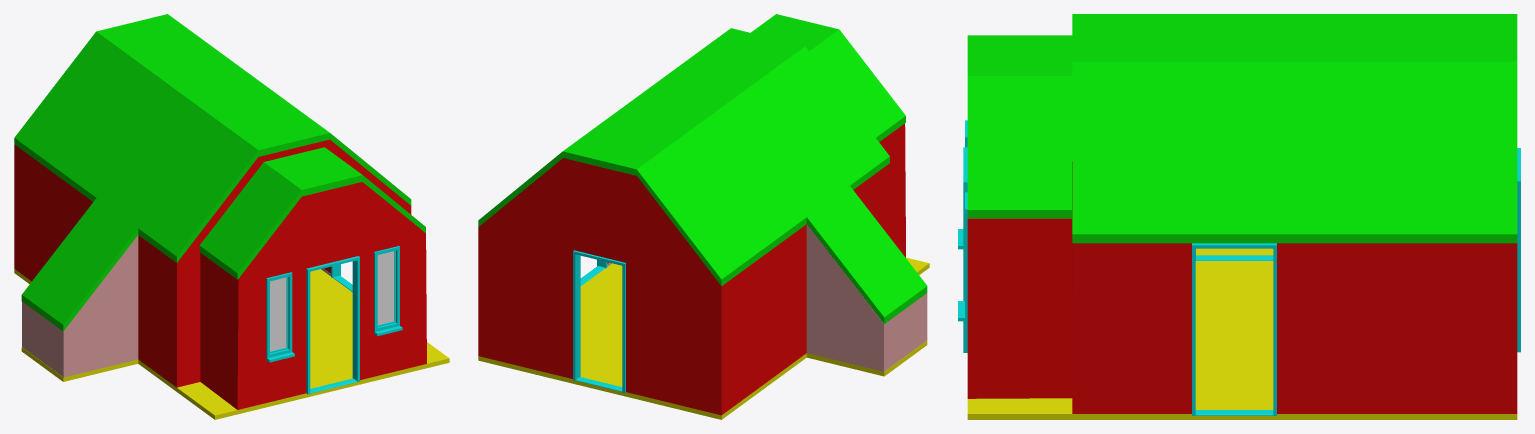
Rendered from FloorPlan508_physics.fbx.
3 renders of one model, left to right at view 1: azimuth 30°, elevation 25°; view 2: azimuth 150°, elevation 25°; view 3: azimuth 270°, elevation 25°, orthographic. The views are drawn at different scales.
Visible parts, largest first — view 1: FP508:Ceiling_1, FP508:Walls_1, FP508:Walls_2, FP508:Floor_1, FP508:Ceiling_2, FP508:DoorFrame_1, FP508:WindowPane_2, FP508:WindowPane_1, FP508:WindowFrame_1, FP508:WindowFrame_2, FP508:Floor_2; view 2: FP508:Walls_1, FP508:Ceiling_1, FP508:Walls_2, FP508:Ceiling_2, FP508:Floor_1, FP508:DoorFrame_3, FP508:Floor_2; view 3: FP508:Ceiling_1, FP508:Walls_1, FP508:Floor_1, FP508:DoorFrame_2, FP508:DoorFrame_3, FP508:Floor_2, FP508:DoorFrame_1, FP508:WindowFrame_2.
Boxes of the visible parts, x1,y1,x2,y2 form: FP508:Ceiling_1: (14, 14, 425, 279); FP508:Walls_1: (14, 139, 426, 409); FP508:Walls_2: (22, 235, 138, 377); FP508:Floor_1: (14, 269, 449, 419); FP508:Ceiling_2: (21, 198, 138, 331); FP508:DoorFrame_1: (306, 256, 359, 394); FP508:WindowPane_2: (377, 251, 394, 325); FP508:WindowPane_1: (270, 277, 286, 351); FP508:WindowFrame_1: (266, 272, 294, 362); FP508:WindowFrame_2: (374, 246, 402, 336); FP508:Floor_2: (21, 347, 138, 381); FP508:Walls_1: (478, 123, 905, 415); FP508:Ceiling_1: (478, 14, 905, 286); FP508:Walls_2: (806, 224, 927, 371); FP508:Ceiling_2: (806, 186, 927, 323); FP508:Floor_1: (478, 257, 929, 419); FP508:DoorFrame_3: (573, 250, 625, 392); FP508:Floor_2: (806, 340, 927, 376); FP508:Ceiling_1: (967, 14, 1517, 243); FP508:Walls_1: (967, 161, 1517, 413); FP508:Floor_1: (967, 261, 1517, 419); FP508:DoorFrame_2: (1192, 243, 1276, 415); FP508:DoorFrame_3: (1517, 148, 1520, 352); FP508:Floor_2: (1196, 248, 1273, 255); FP508:DoorFrame_1: (963, 147, 967, 352); FP508:WindowFrame_2: (958, 192, 967, 321).
Size of the model in its own units: 541 by 367 by 616.
